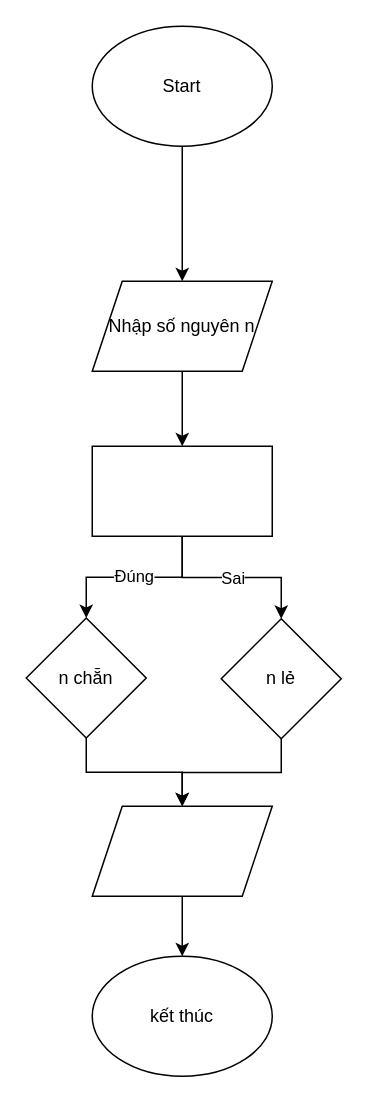
Some shapes in this 368 by 1103 pixel diagram are drawn without their labels. Here are the shapes that lost their labels. From the top down, the centre of each, then its label:
At point 181,490: "Kiểm tra n % 2 == 0".
At point 181,850: "in ra kết quả".
